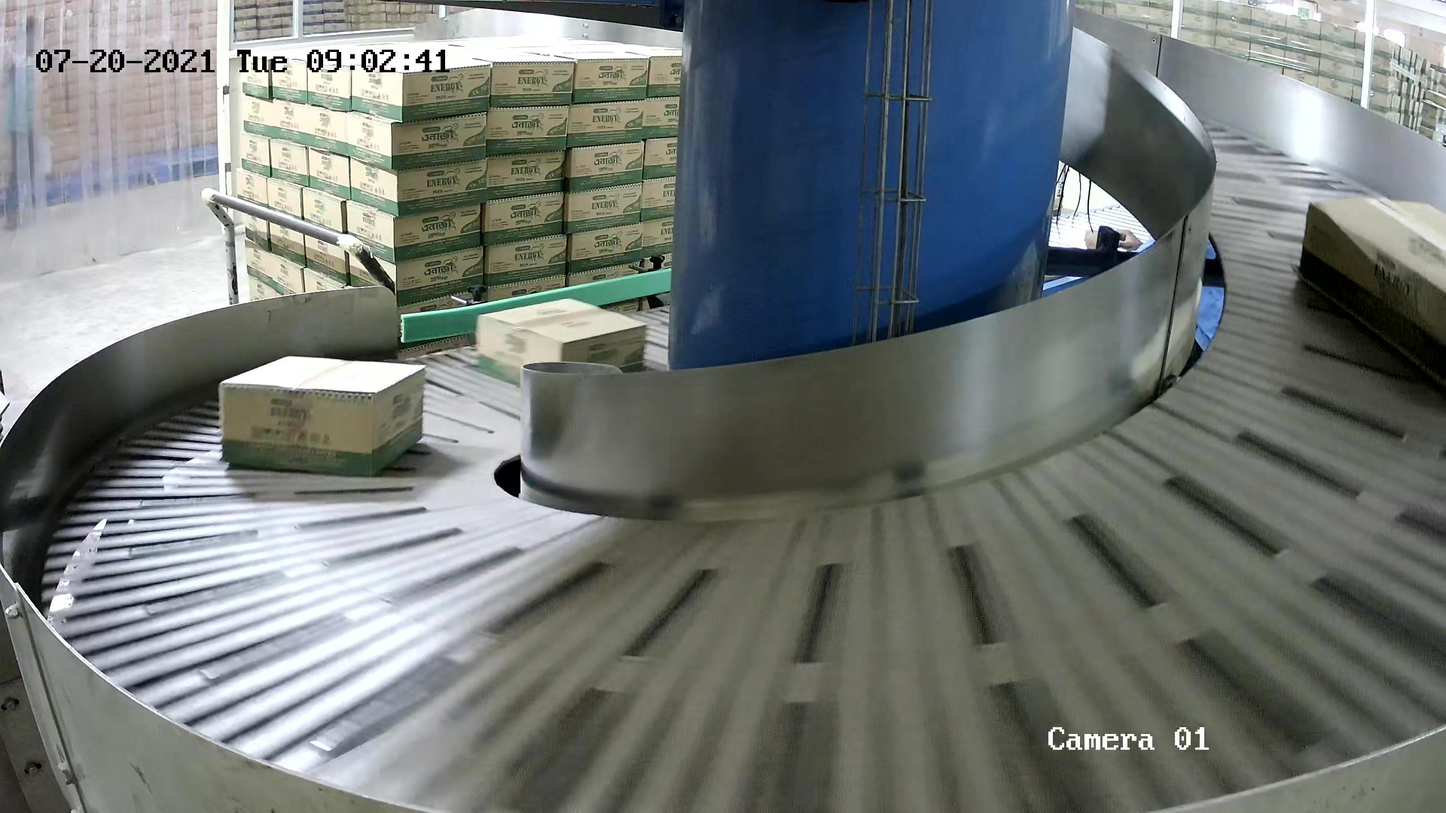Box: (1296, 194, 1446, 391), (217, 353, 428, 478), (474, 296, 649, 393)
